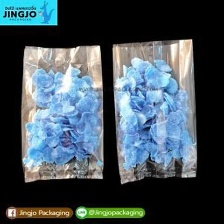snack: (106, 33, 204, 188), (14, 39, 108, 187)
